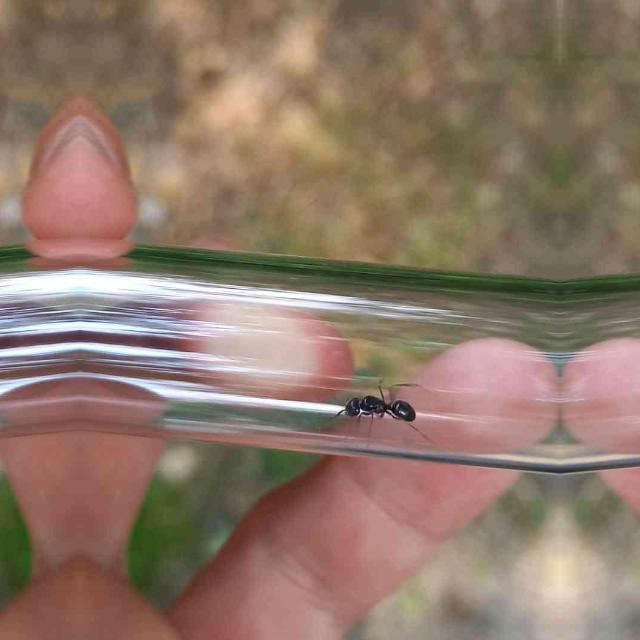Lasius: (326, 365, 436, 459)
